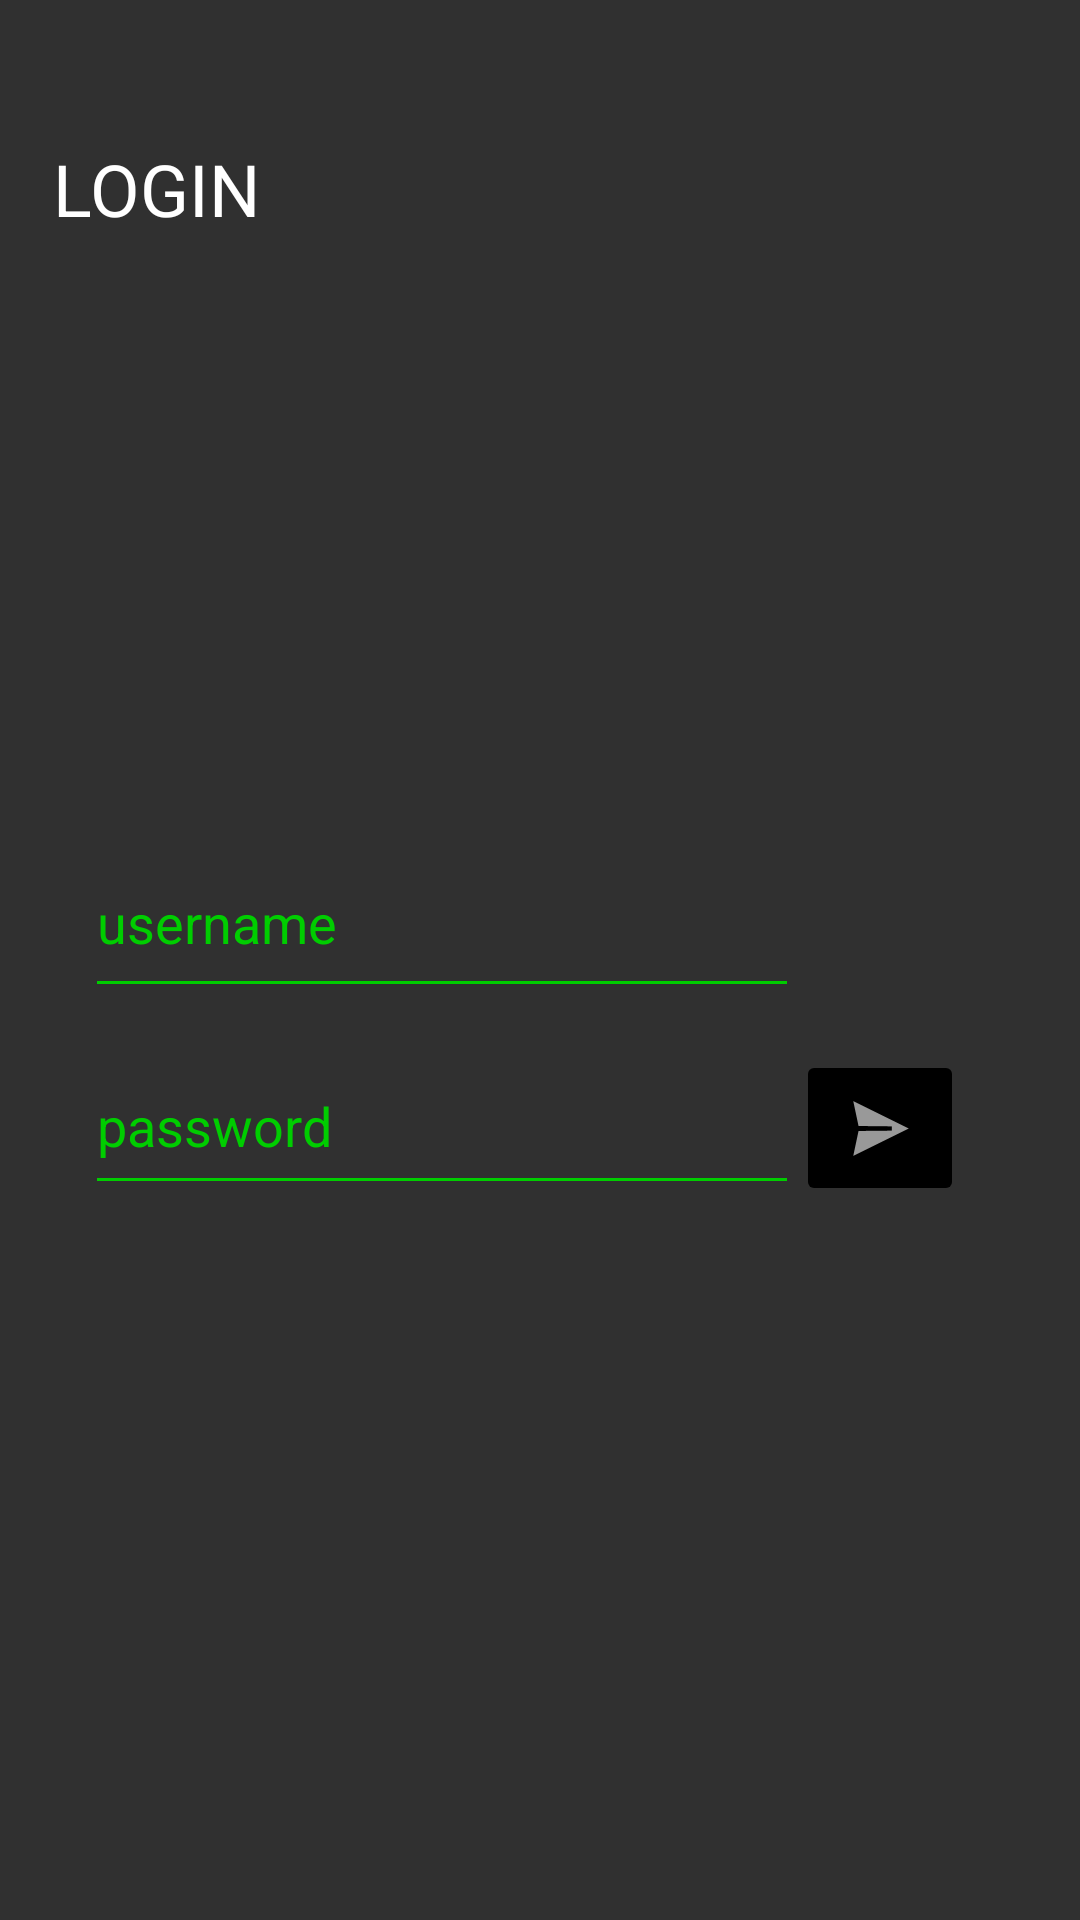

Icons on this 1080px×1920px Android screen, each with the point to tap as [x,y]:
send: [880,1128]
